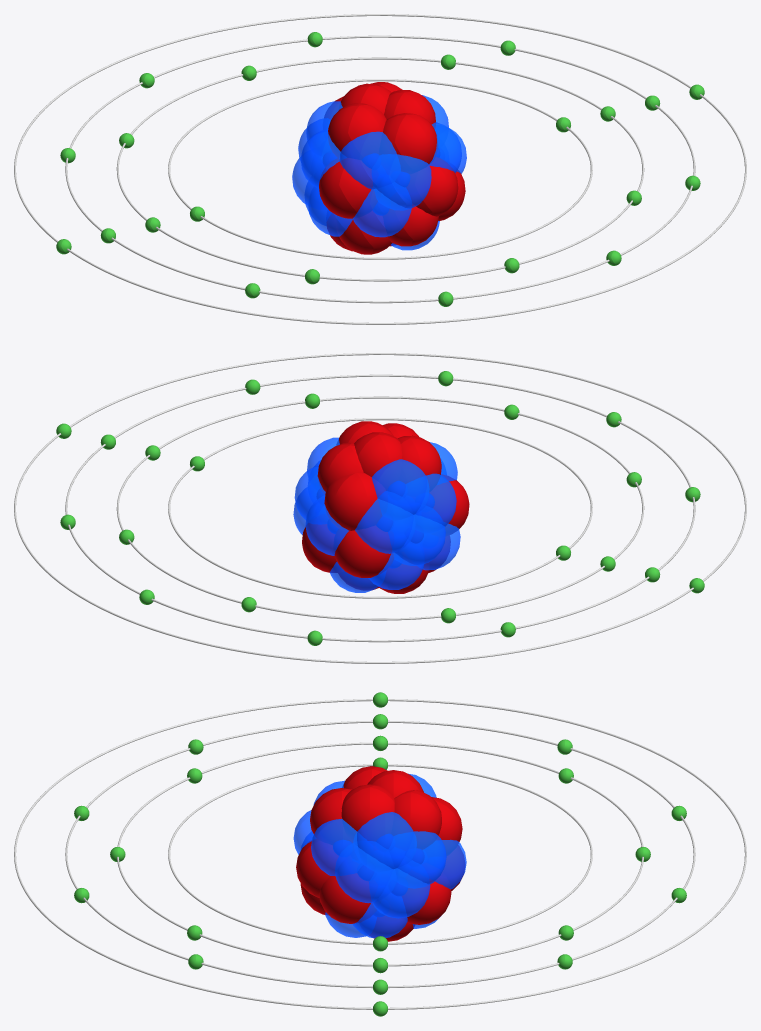
Rendered from element_022_titanium.glb.
3 views of the same model, one above another, from view 1: azimuth 30°, elevation 25°; view 2: azimuth 150°, elevation 25°; view 3: azimuth 270°, elevation 25° (orthographic).
Parts seen in each view (by area): view 1: element_022_titanium_nucleus, titanium_orbital_1_13; view 2: element_022_titanium_nucleus, titanium_orbital_1_13; view 3: element_022_titanium_nucleus, titanium_orbital_1_13.
Part boxes in pixels (left/top/right/bottom): element_022_titanium_nucleus: left=292, top=82, right=466, bottom=254; titanium_orbital_1_13: left=14, top=14, right=746, bottom=324; element_022_titanium_nucleus: left=293, top=421, right=469, bottom=593; titanium_orbital_1_13: left=14, top=353, right=746, bottom=663; element_022_titanium_nucleus: left=293, top=766, right=466, bottom=941; titanium_orbital_1_13: left=14, top=692, right=746, bottom=1016.
Size of what is drawn, in the model's own units: 0.6225 by 0.1461 by 0.6113.
